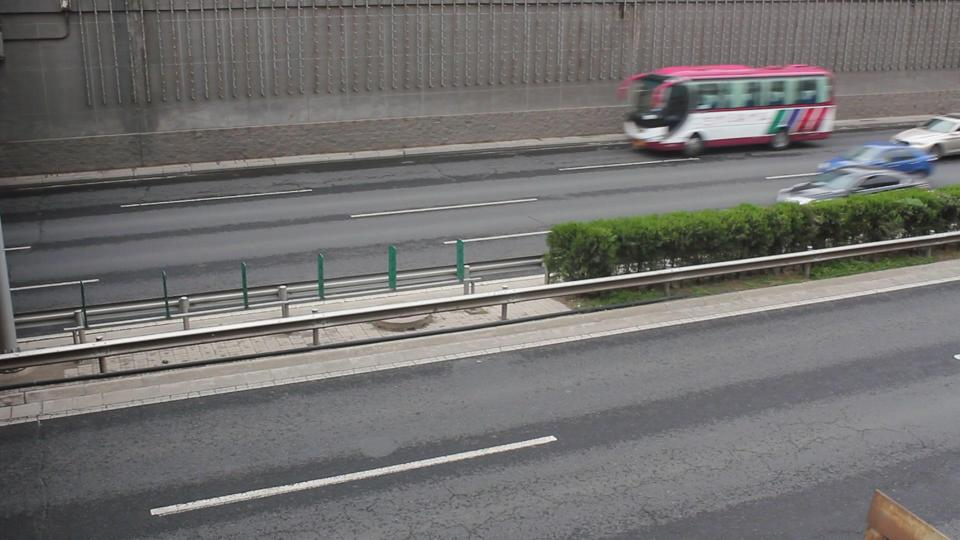bus: (620, 65, 834, 156)
car: (781, 143, 944, 201), (814, 144, 938, 178), (892, 114, 960, 158)
